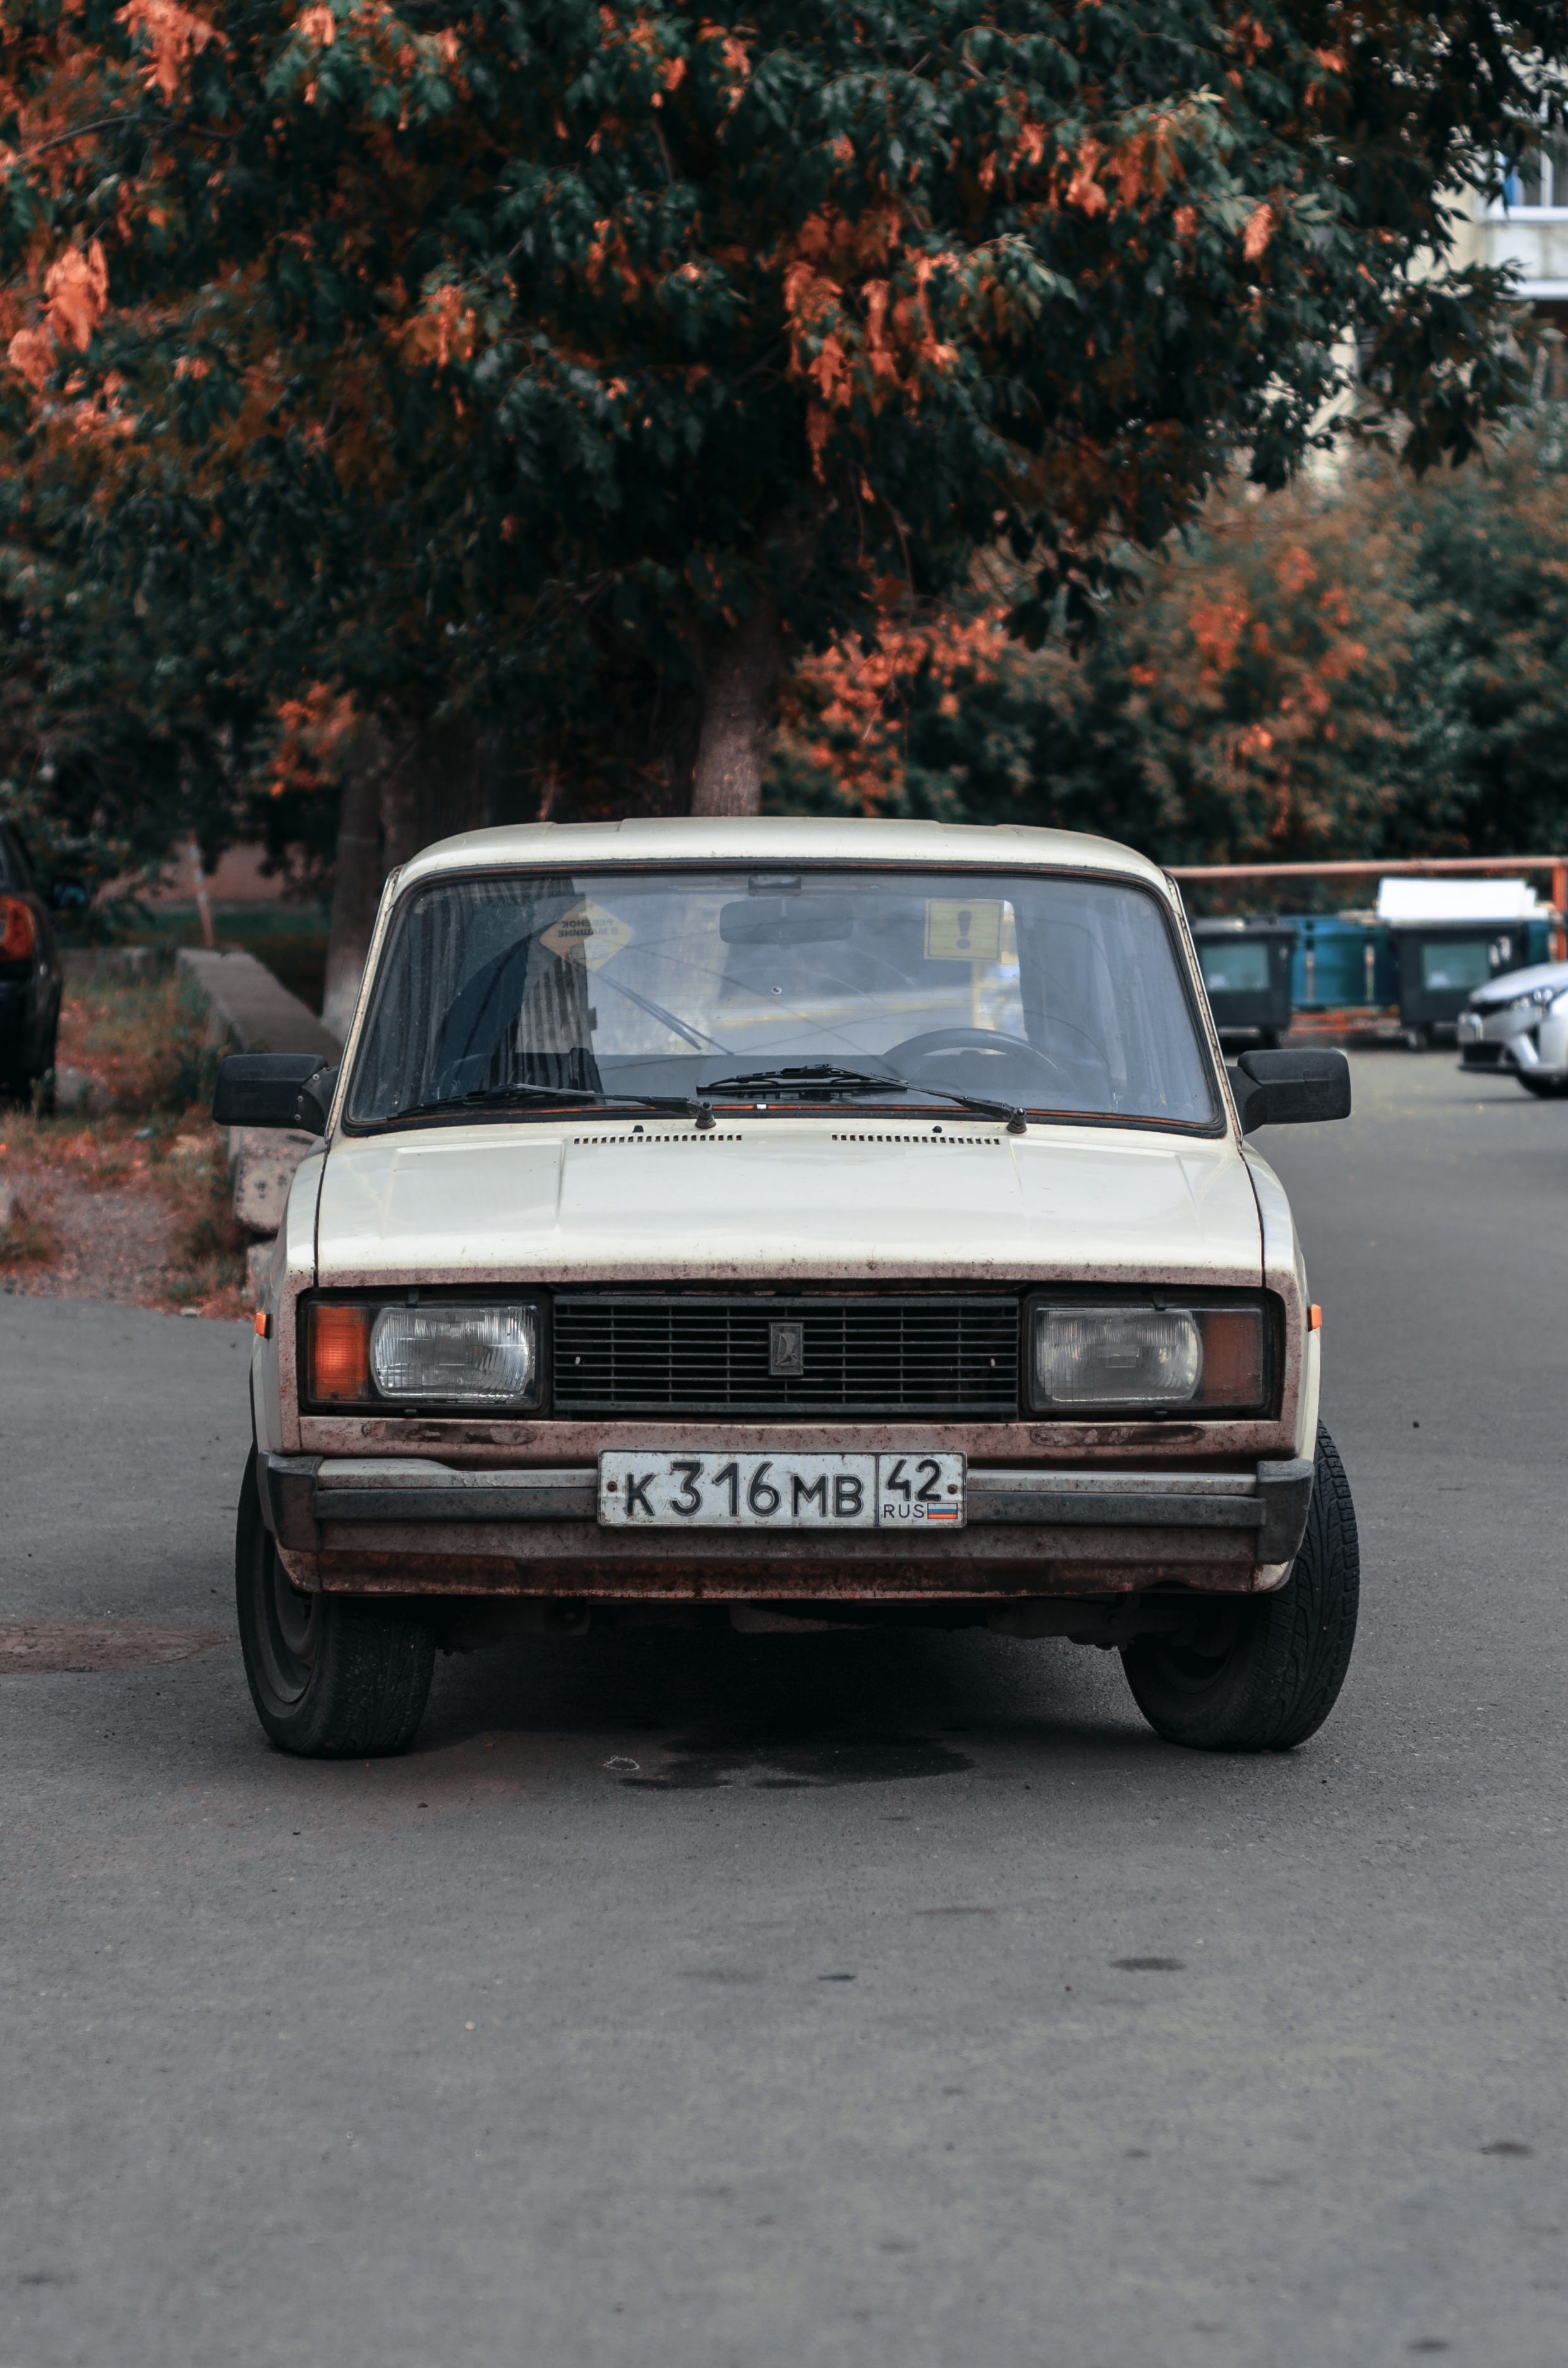plaka: (595, 1447, 971, 1533)
